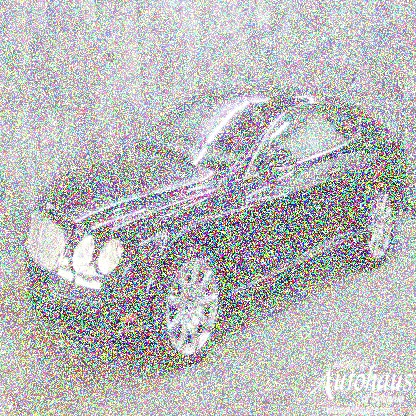Vehicle: (25, 85, 407, 367)
